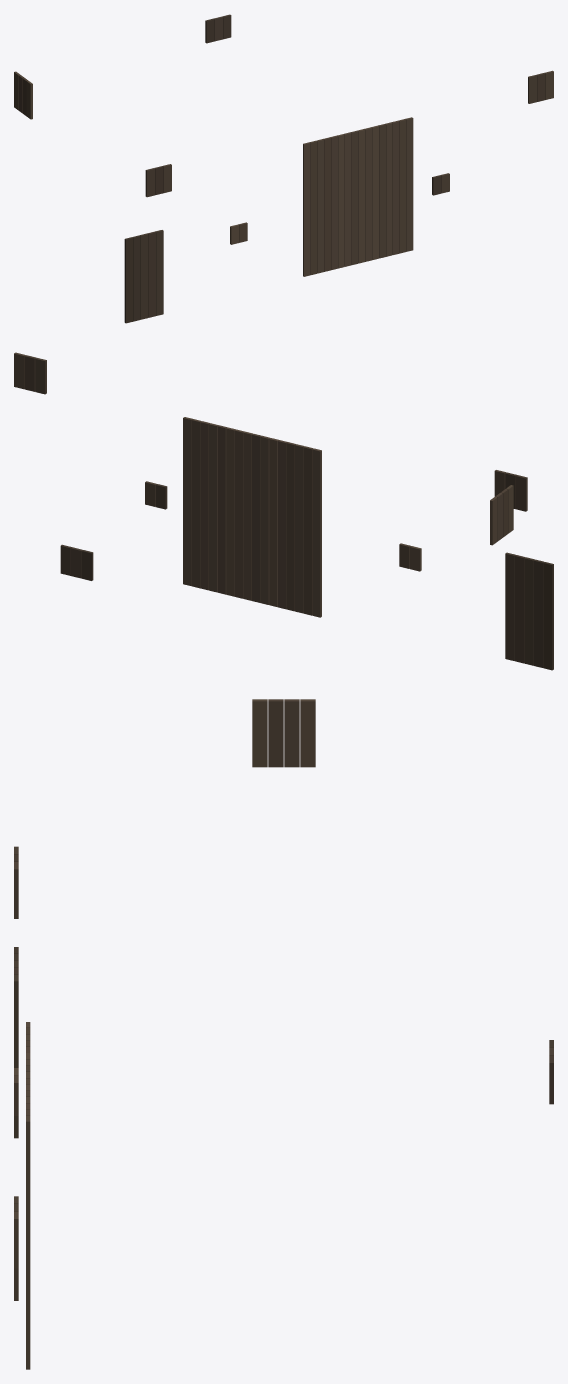
The model's file is SM_Bld_007_Wood.glb.
3 views of the same model, one above another, from view 1: azimuth 30°, elevation 25°; view 2: azimuth 150°, elevation 25°; view 3: azimuth 270°, elevation 25° (orthographic). The views are drawn at different scales.
Visible parts, largest first — view 1: SM_Bld_007_Wood; view 2: SM_Bld_007_Wood; view 3: SM_Bld_007_Wood.
Part boxes in pixels (x1=…): SM_Bld_007_Wood: x1=14, y1=14, x2=553, y2=323; SM_Bld_007_Wood: x1=14, y1=352, x2=553, y2=670; SM_Bld_007_Wood: x1=14, y1=699, x2=553, y2=1369.
Bounding box in the file's own units: 10.91 × 4.55 × 5.92.
